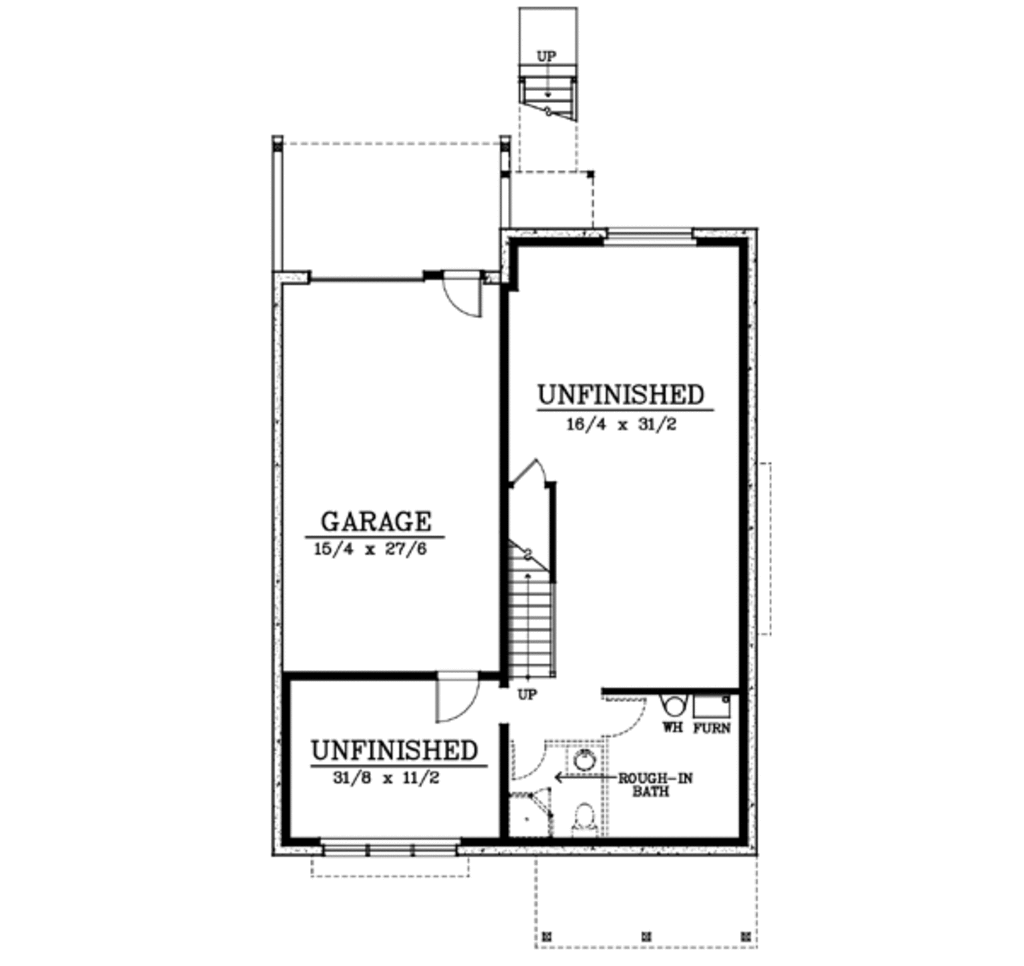door: (433, 253, 492, 327), (434, 668, 487, 727), (496, 736, 547, 783), (603, 692, 647, 742)
large_sink: (559, 793, 605, 840)
small_sink: (562, 742, 606, 780)
stairs: (509, 9, 587, 172), (509, 487, 570, 683)
window: (321, 831, 462, 858), (602, 225, 693, 253)
